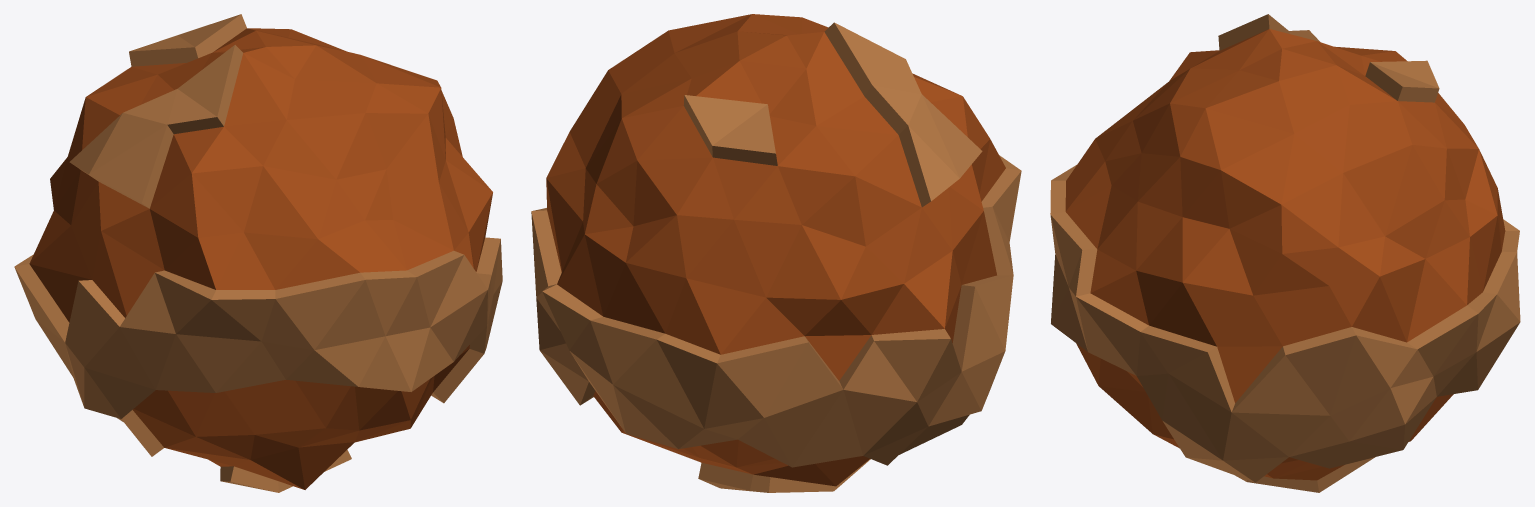
Rendered from Mars_5.fbx.
3 views of the same model, side by side, from view 1: azimuth 30°, elevation 25°; view 2: azimuth 150°, elevation 25°; view 3: azimuth 270°, elevation 25° (orthographic). The views are drawn at different scales.
Visible parts, largest first — view 1: Icosphere.002; view 2: Icosphere.002; view 3: Icosphere.002.
Boxes of the visible parts, box(x1,y1,x2,y2) form: Icosphere.002: box(14, 14, 502, 492); Icosphere.002: box(531, 14, 1021, 492); Icosphere.002: box(1050, 14, 1520, 492).
Bounding box in the file's own units: 332 × 341 × 331.
